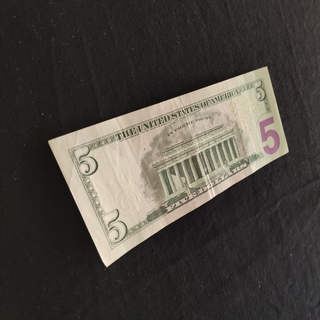5USDBack: (48, 66, 289, 266)
